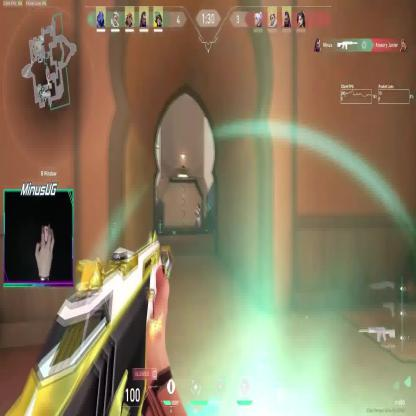enemy: (193, 202, 201, 232)
enemy_head: (198, 202, 201, 210)
